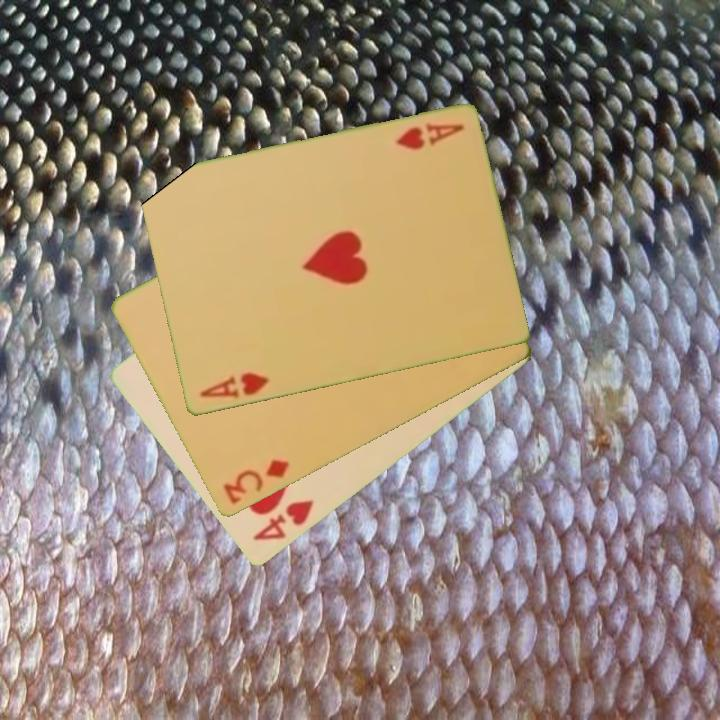3d: (220, 456, 292, 508)
4h: (249, 497, 317, 545)
Ah: (392, 119, 467, 154), (196, 369, 272, 402)
